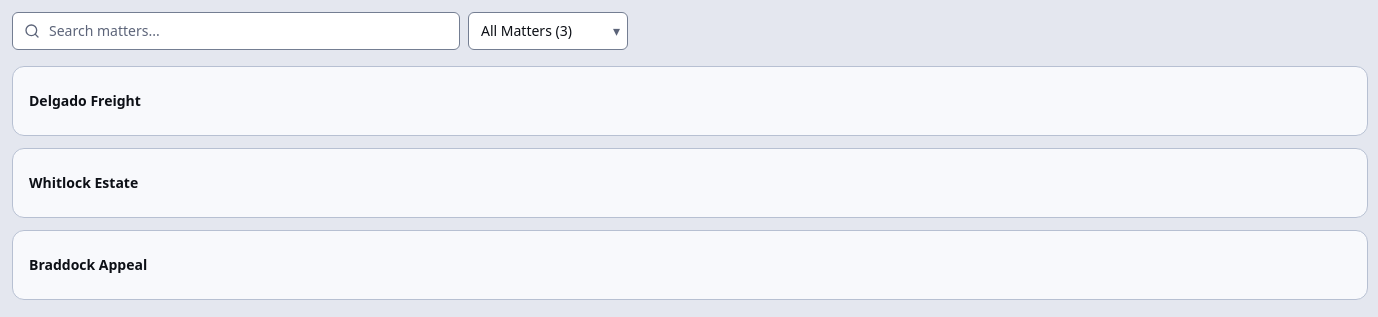
Test: EntityListTab › names its search box and offers a clear button once something is typed
The image size is (1378, 317).
Type "delgado" into the field labelled "Search matters..." at point(236, 31), box x1=12 y1=12 x2=460 y2=50
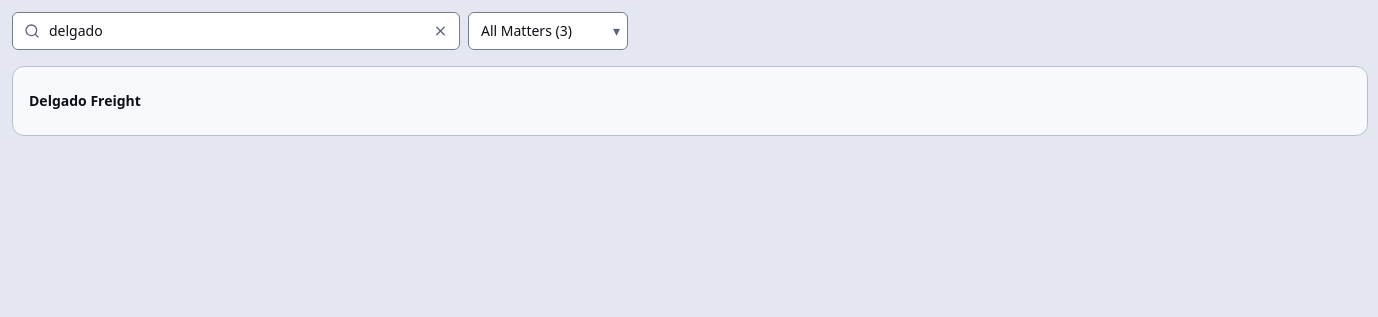
Result: the text "Whitlock Estate" is gone
Click the button named "Clear search" at point(440, 31), box x1=429 y1=20 x2=452 y2=42
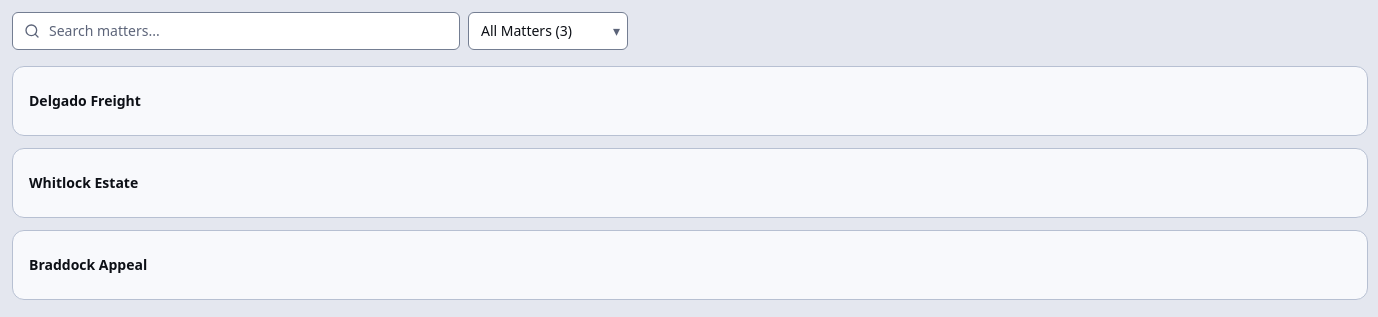
Result: the field with placeholder "Search matters..." is empty at x1=12 y1=12 x2=460 y2=50
Result: the text "Whitlock Estate" is shown at x1=29 y1=173 x2=138 y2=193
